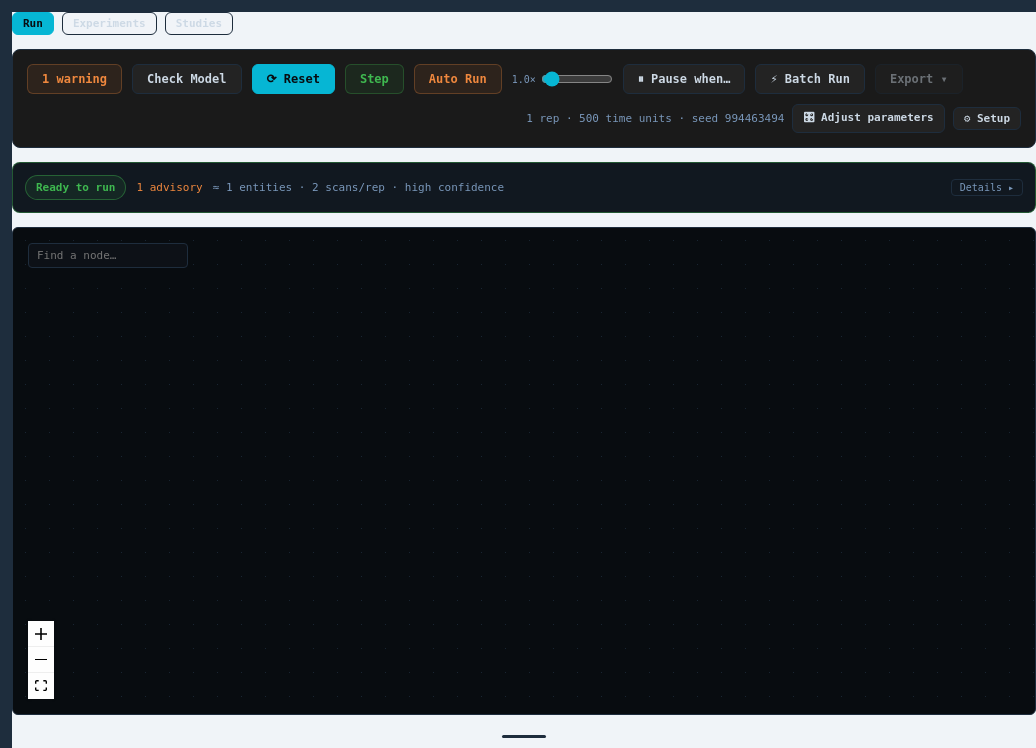
Test case: ExecutePanel single-run progress › labels cancelled runs clearly and skips persistence
The width and height of the screenshot is (1036, 748).
Click the button "⚡ Batch Run".
click(810, 79)  # box [755,64,865,94]
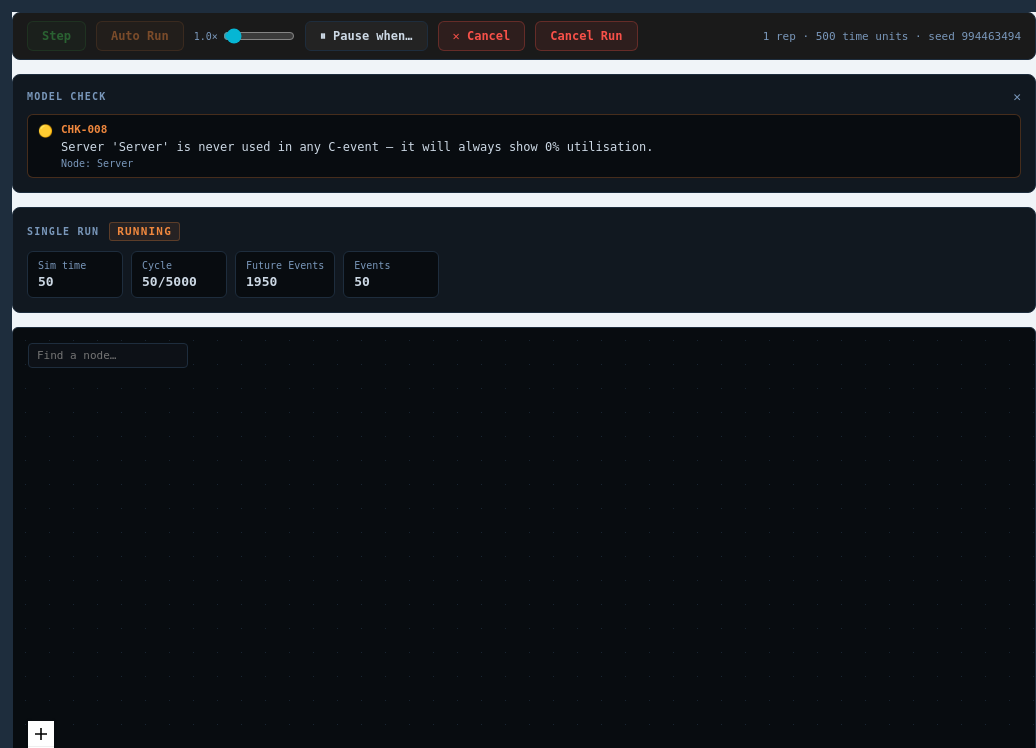
Expected: the text "SINGLE RUN" is shown, [27,226,99,237]
Click the button "Cancel Run".
click(586, 36)  # box [535,21,638,51]
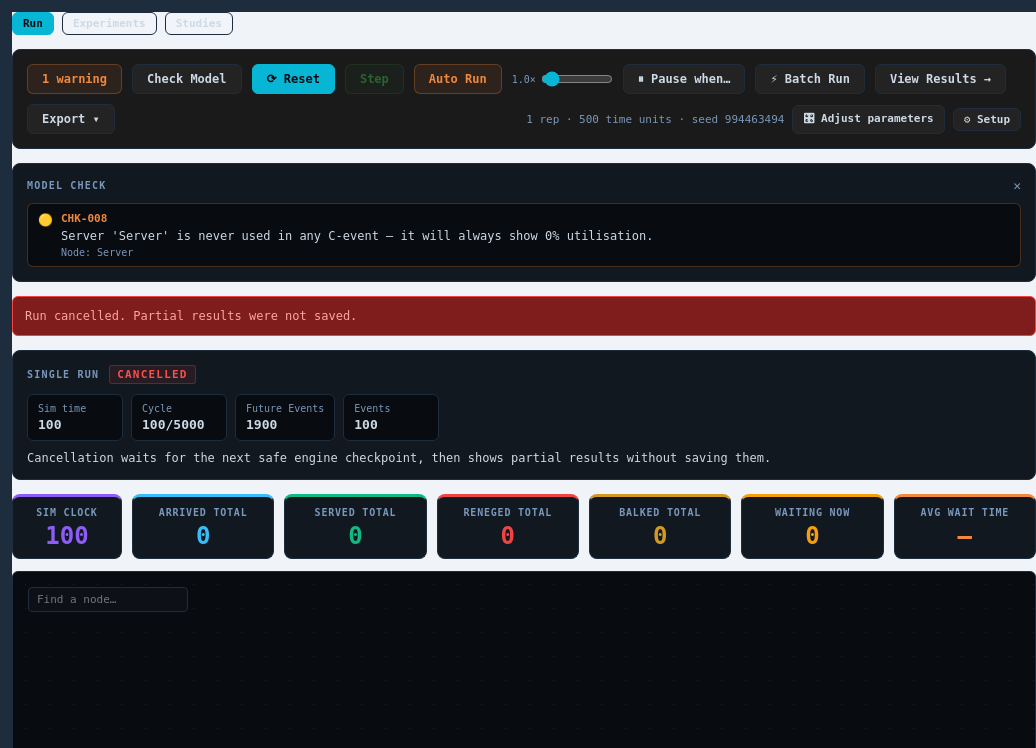
Expected: the text "cancelled" is shown, [109,365,196,384]
Expected: the text "Run cancelled. Partial results were not saved." is shown, [12,296,1035,336]
